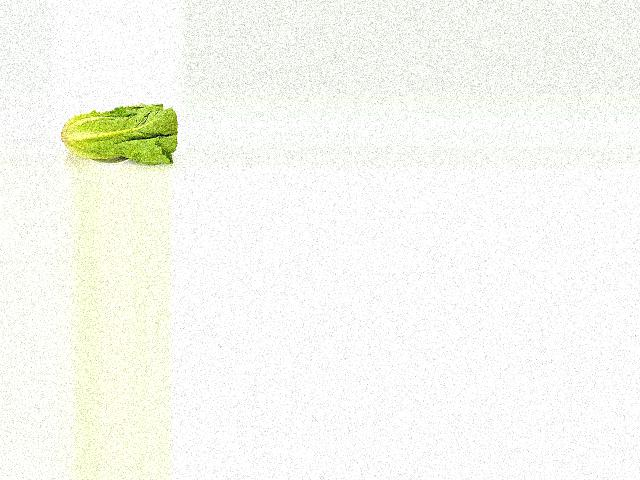lettuce: (59, 101, 177, 166)
